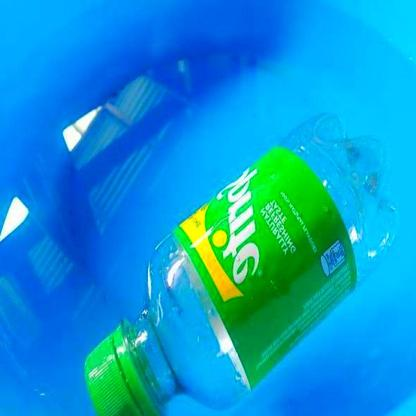plastic bottle: (83, 113, 396, 412)
